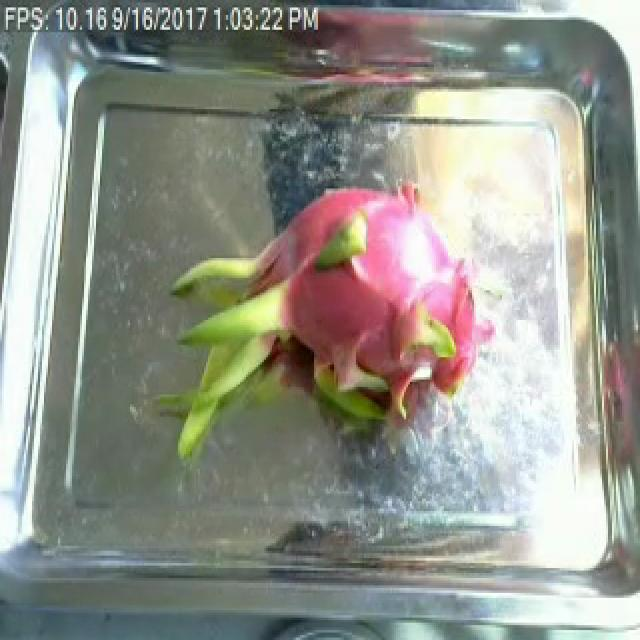fruit: (146, 161, 486, 489)
